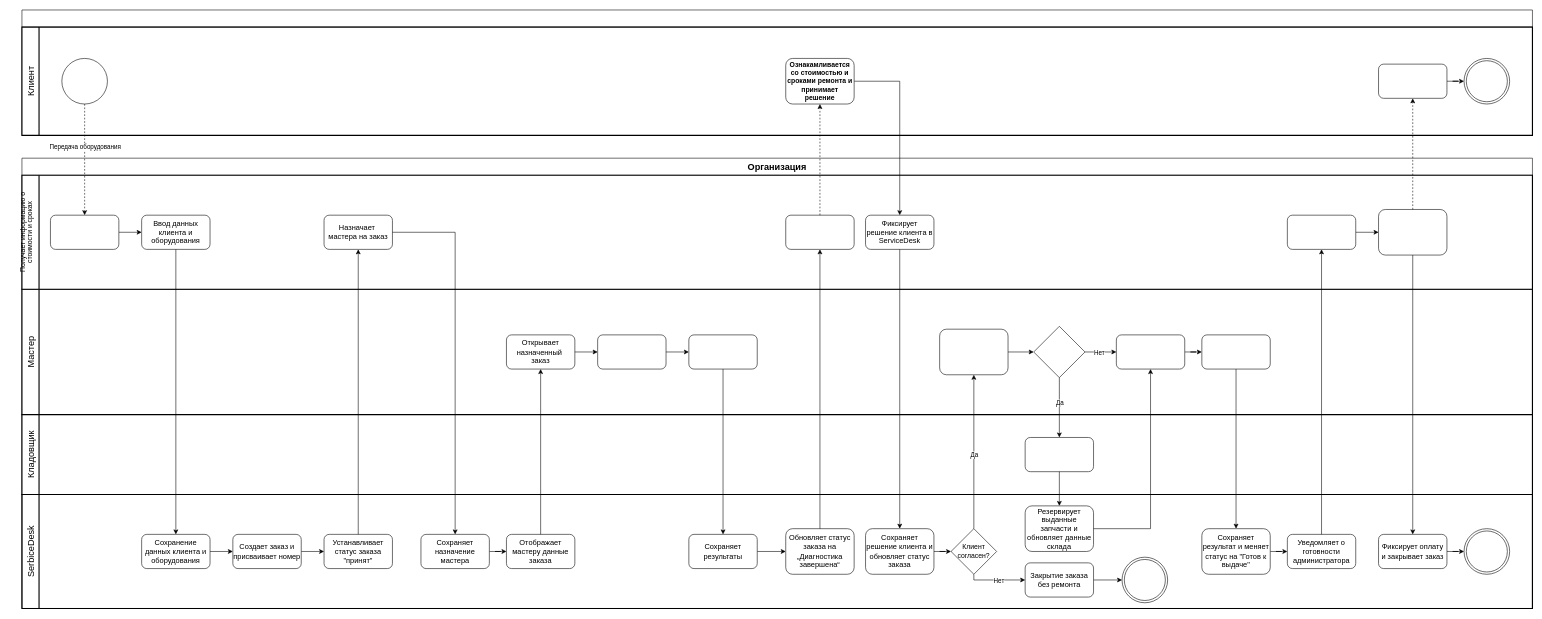
Some shapes in this 1542 by 619 pixel diagram are drawn without their labels. The shapes that lost their labels are listed below. From the top down, each one's centre as x and y in pixels, then its label:
point (84, 81): Обращение в сервис
point (1412, 81): Получает готовое оборудование
point (84, 232): Прием оборудования
point (819, 232): Сообщает клиенту стоимость и сроки
point (1321, 232): Сообщает клиенту о готовности заказа
point (1412, 232): Принимает оплату и отдает оборудование клиенту
point (631, 351): Проводит диагностику оборудования
point (722, 351): Вносит результат диагностики, сроки и стоимость
point (973, 352): Определяет необходимость использования запчастей
point (1059, 352): Запчасти нужны?
point (1150, 351): Выполняет ремонт оборудования
point (1235, 351): Фиксирует результат
point (1059, 454): Проверяет наличие и выдает запчасти
